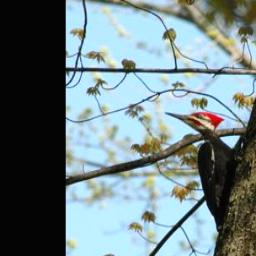Woodpecker: (160, 109, 245, 233)
